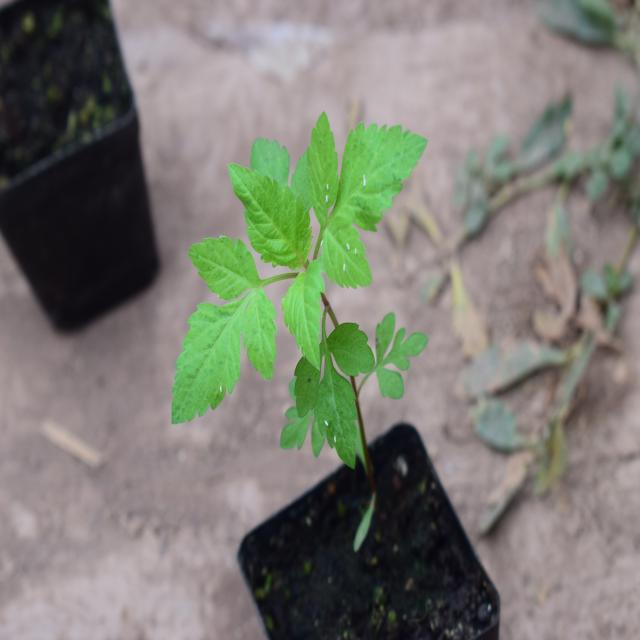Bidens pilosa: (154, 92, 446, 490)
